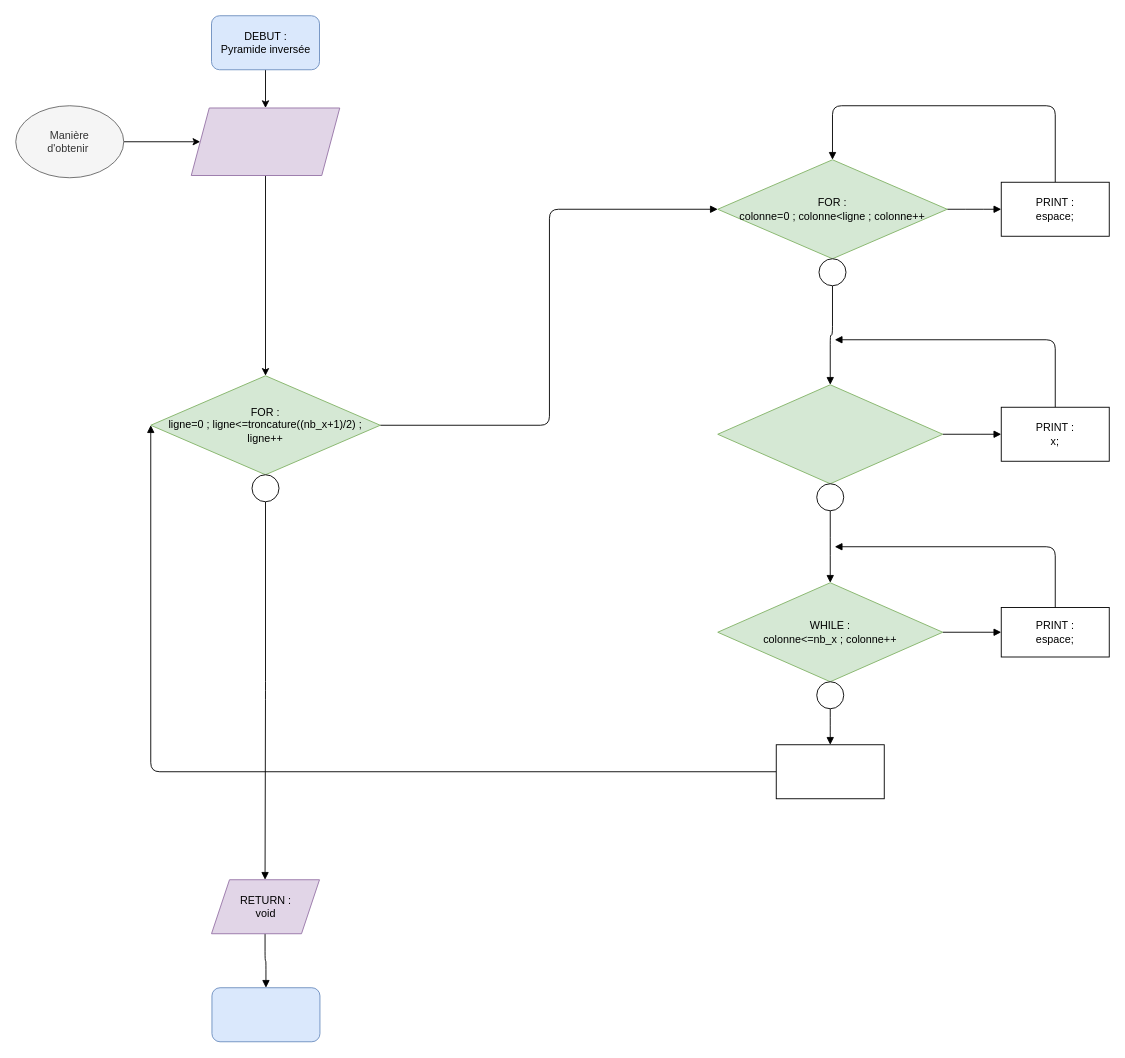
The diagram is 1125 pixels wide and 1058 high, and some of its shapes have lost their labels. Here are the shapes that lost their labels. From the top down, the centre of each, then its label:
At (x=265, y=141): "Obtention des variables nb_x".
At (x=830, y=434): "WHILE : colonne<=nb_x-(ligne x 2) ; colonne++".
At (x=829, y=771): "PRINT : nouvelle ligne".
At (x=265, y=1014): "FIN".
